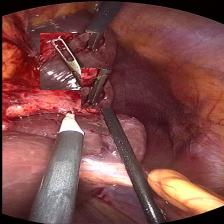Grasper: (39, 34, 103, 90), (80, 69, 124, 109)
Hook: (56, 106, 88, 136)
